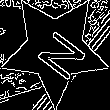N_NW: (24, 18, 86, 80)
